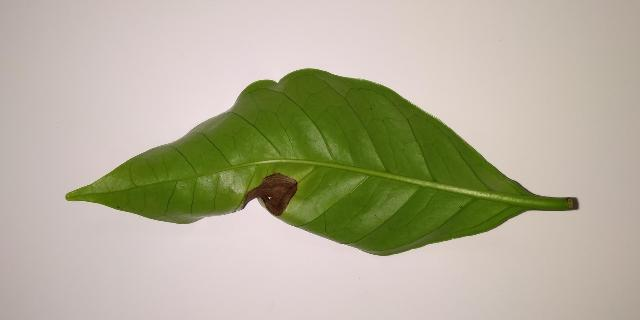rust: (239, 173, 297, 219)
